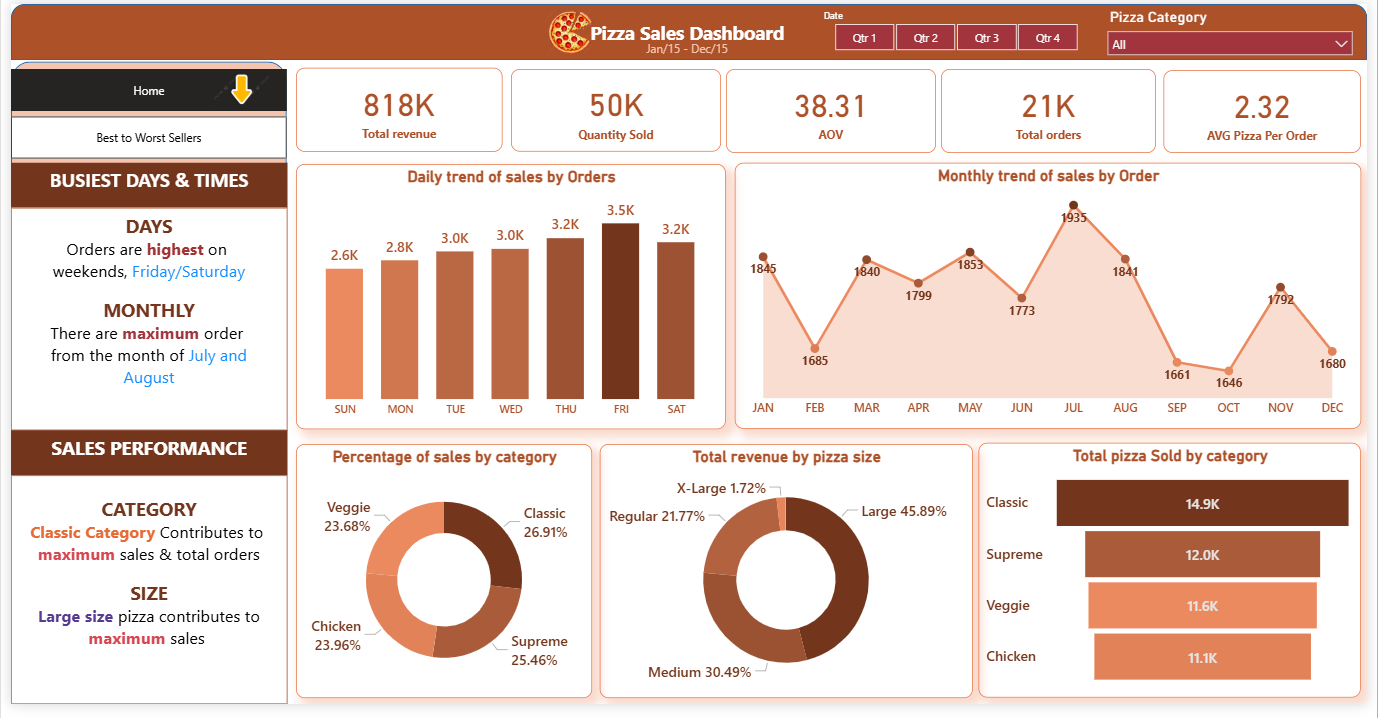

The page's visual inventory and layout, read from the dashboard file:
{"tool":"powerbi","page":{"name":"Home","canvas":[1550,800],"ordinal":0},"visuals":[{"type":"columnChart","title":"Daily trend of sales by Orders","fields":{"Category":["pizza_sales.Order Day"],"Y":["Count(pizza_sales.order_id)"]},"box":[325.7,182.9,491.4,302.9],"z":0},{"type":"card","fields":{"Values":["pizza_sales.Total revenue"]},"box":[325.7,72.9,235.7,95.7],"z":1000},{"type":"shape","box":[0,0,1550,64.3],"z":2000},{"type":"textbox","box":[654.8,12.3,237,39.7],"z":3000},{"type":"image","box":[605.5,0,67.1,65.8],"z":4000},{"type":"textbox","box":[700,37,145.2,27.4],"z":5000},{"type":"card","fields":{"Values":["pizza_sales.Quantity Sold"]},"box":[571.4,74.3,240,94.3],"z":6000},{"type":"card","fields":{"Values":["pizza_sales.AOV"]},"box":[817.1,74.3,240,95.7],"z":7000},{"type":"card","fields":{"Values":["pizza_sales.Total orders"]},"box":[1062.9,74.3,245.7,95.7],"z":8000},{"type":"stackedAreaChart","title":"Monthly trend of sales by Order","fields":{"Y":["Count(pizza_sales.order_id)"],"Category":["pizza_sales.Order Month"]},"box":[827.1,181.4,715.7,304.3],"z":9000},{"type":"card","fields":{"Values":["pizza_sales.AVG Pizza Per Order"]},"box":[1317.1,75.7,225.7,94.3],"z":10000},{"type":"donutChart","title":"Percentage of sales by category","fields":{"Category":["pizza_sales.pizza_category"],"Y":["pizza_sales.Total revenue"]},"box":[325.7,502.9,338.6,290],"z":11000},{"type":"donutChart","title":"Total revenue by pizza size","fields":{"Category":["pizza_sales.pizza_size"],"Y":["pizza_sales.Total revenue"]},"box":[672.6,502.7,426,290.4],"z":12000},{"type":"funnel","title":"Total pizza Sold by category","fields":{"Category":["pizza_sales.pizza_category"],"Y":["pizza_sales.Quantity Sold"]},"box":[1105.7,501.4,437.1,291.4],"z":13000},{"type":"shape","box":[0,65.8,315.1,734.2],"z":14000},{"type":"textbox","box":[0,181.4,315.7,51.4],"z":15000},{"type":"textbox","box":[0,232.9,315.7,254.3],"z":15001},{"type":"textbox","box":[0,487.1,315.7,51.4],"z":15002},{"type":"textbox","box":[0,538.6,315.7,261.4],"z":15003},{"type":"slicer","fields":{"Values":["pizza_sales.pizza_category"]},"box":[1242.9,0,300,58.6],"z":15004},{"type":"slicer","fields":{"Values":["pizza_sales.order_date.Variation.Date Hierarchy.Quarter"]},"box":[915.7,1.4,327.1,58.6],"z":15005},{"type":"pageNavigator","box":[0,74.3,315.7,48.6],"z":15006},{"type":"pageNavigator","box":[0,128.6,315.7,48.6],"z":15007},{"type":"image","box":[222.9,64.3,81.4,65.7],"z":15008}]}

Visuals, with their boxes in screenshot pixels (x1, y1, x2, y2), scaled from the page's 1550x800 canvas onto the 1378x718 screenshot:
"Daily trend of sales by Orders" columnChart: left=290, top=164, right=726, bottom=436
card - pizza_sales.Total revenue: left=290, top=65, right=499, bottom=151
shape: left=0, top=0, right=1377, bottom=58
textbox: left=582, top=11, right=793, bottom=47
image: left=538, top=0, right=598, bottom=59
textbox: left=622, top=33, right=751, bottom=58
card - pizza_sales.Quantity Sold: left=508, top=67, right=721, bottom=151
card - pizza_sales.AOV: left=726, top=67, right=940, bottom=153
card - pizza_sales.Total orders: left=945, top=67, right=1163, bottom=153
"Monthly trend of sales by Order" stackedAreaChart: left=735, top=163, right=1372, bottom=436
card - pizza_sales.AVG Pizza Per Order: left=1171, top=68, right=1372, bottom=153
"Percentage of sales by category" donutChart: left=290, top=451, right=591, bottom=712
"Total revenue by pizza size" donutChart: left=598, top=451, right=977, bottom=712
"Total pizza Sold by category" funnel: left=983, top=450, right=1372, bottom=712
shape: left=0, top=59, right=280, bottom=717
textbox: left=0, top=163, right=281, bottom=209
textbox: left=0, top=209, right=281, bottom=437
textbox: left=0, top=437, right=281, bottom=483
textbox: left=0, top=483, right=281, bottom=717
slicer - pizza_sales.pizza_category: left=1105, top=0, right=1372, bottom=53
slicer - pizza_sales.order_date.Variation.Date Hierarchy.Quarter: left=814, top=1, right=1105, bottom=54
pageNavigator: left=0, top=67, right=281, bottom=110
pageNavigator: left=0, top=115, right=281, bottom=159
image: left=198, top=58, right=271, bottom=117
